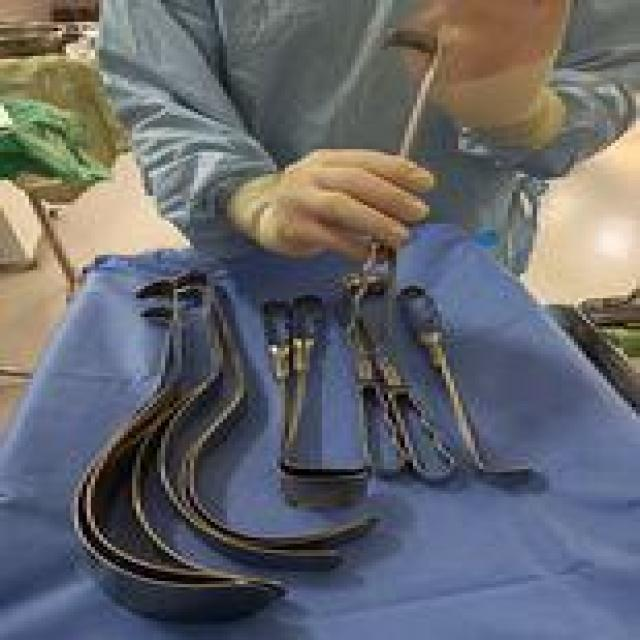Richardson: (392, 282, 549, 484), (260, 295, 372, 513), (347, 274, 462, 484), (280, 288, 372, 478), (330, 274, 413, 478)
